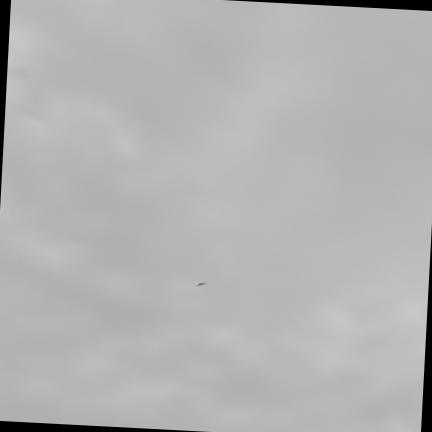Shahed: (197, 283, 206, 285)
